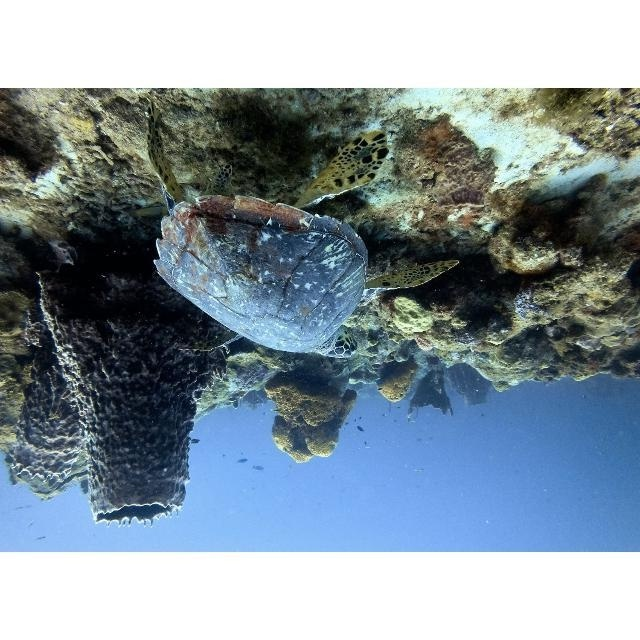turtle: (145, 113, 460, 358)
